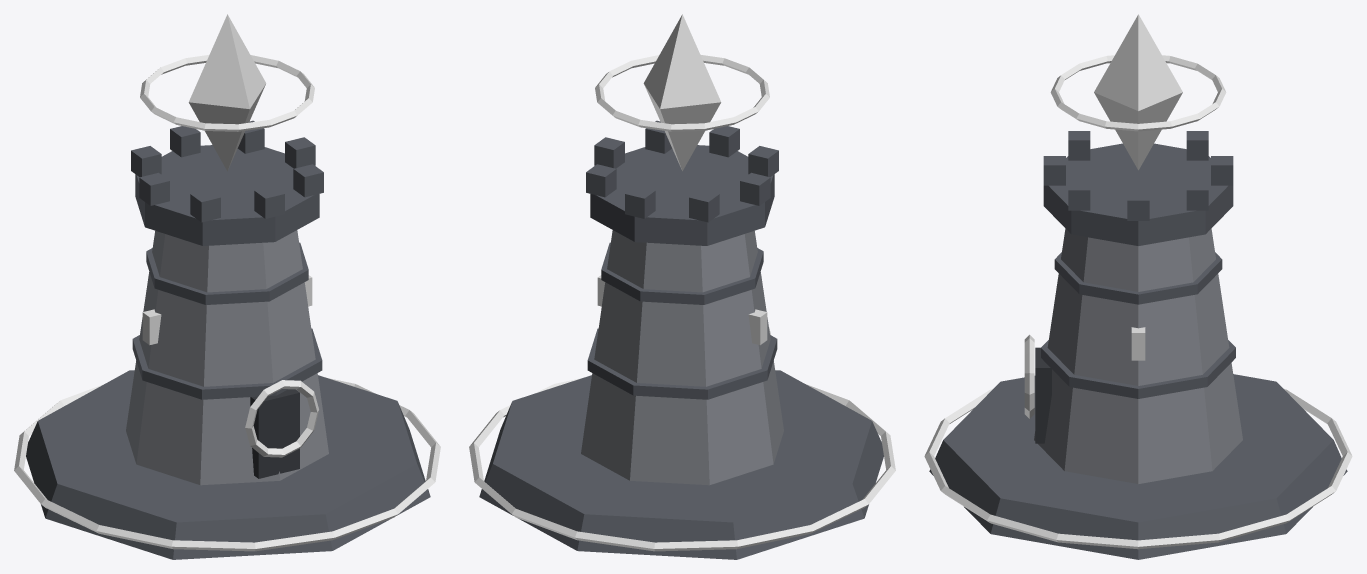
Rendered from supply_ship.fbx.
3 renders of one model, left to right at view 1: azimuth 30°, elevation 25°; view 2: azimuth 150°, elevation 25°; view 3: azimuth 270°, elevation 25°, orthographic.
Parts seen in each view (by area): view 1: supply_ship; view 2: supply_ship; view 3: supply_ship.
Part boxes in pixels (x1,y1,x2,y2): supply_ship: (14, 14, 440, 559); supply_ship: (469, 14, 895, 559); supply_ship: (924, 14, 1352, 559).
Size of the model in its own units: 3.07 by 3.62 by 3.07.
Materials: 2 (1 with a texture image).
